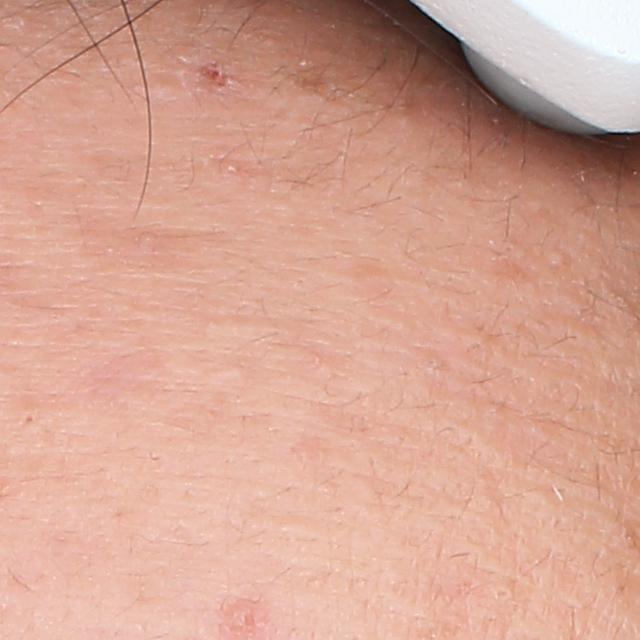comedo: (543, 248, 572, 268), (491, 584, 515, 604), (18, 411, 40, 428)
papule: (223, 594, 269, 639)
